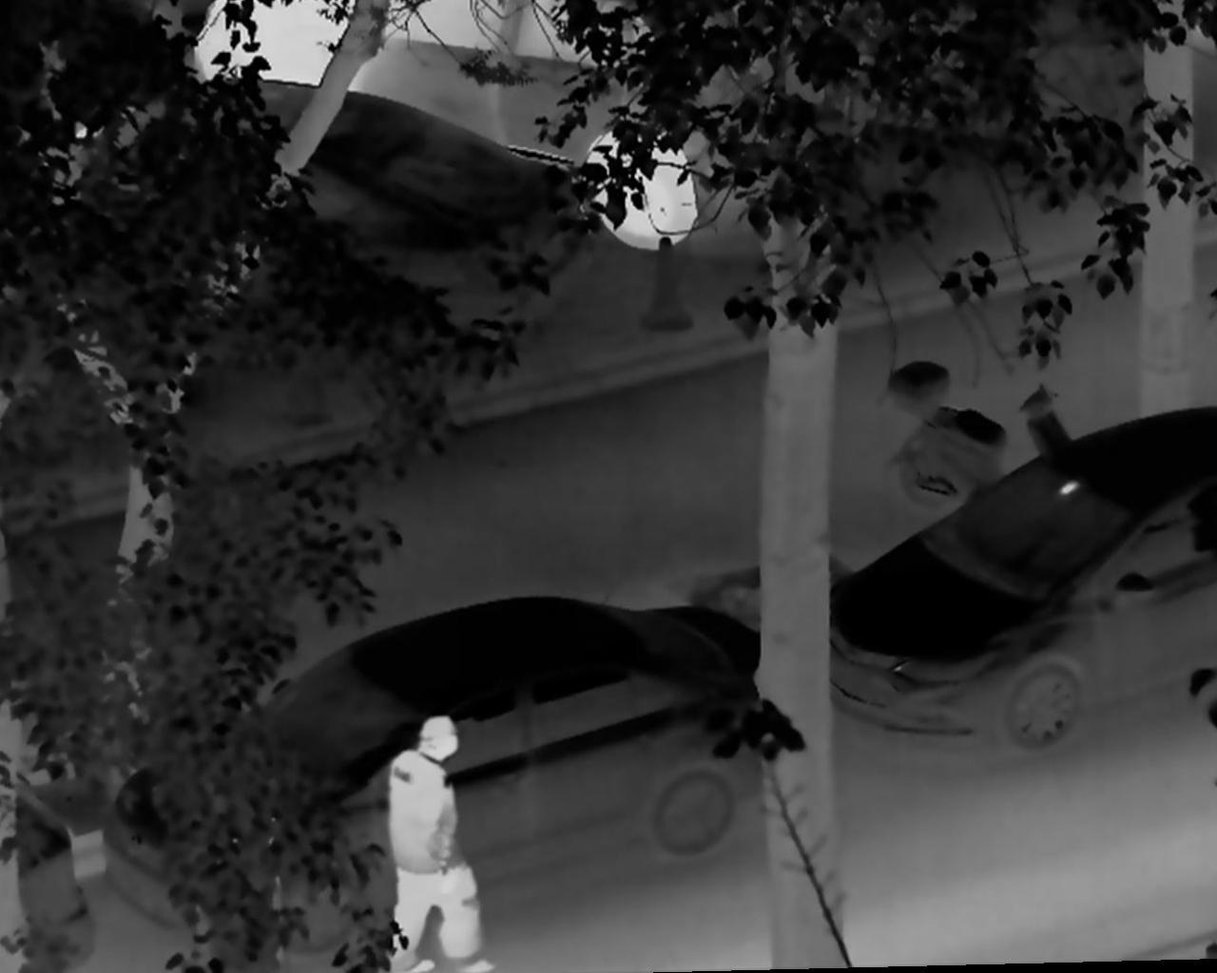person: (374, 713, 498, 973)
